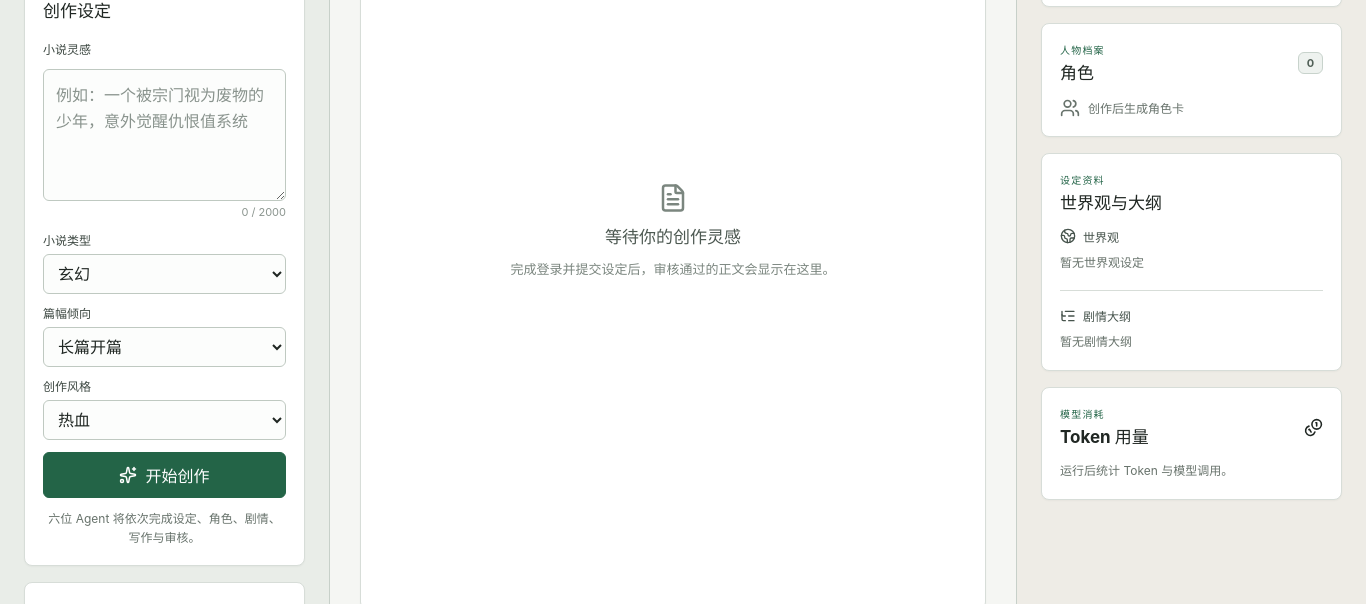
it: Freesky 创作工作台 › 登录用户可生成并查看正文、日志、角色、世界观、大纲和 token 用量
Type "废物少年觉醒仇恨值系统" into the text box labelled "小说灵感" at coordinates (164, 135), box [43,69,286,201]
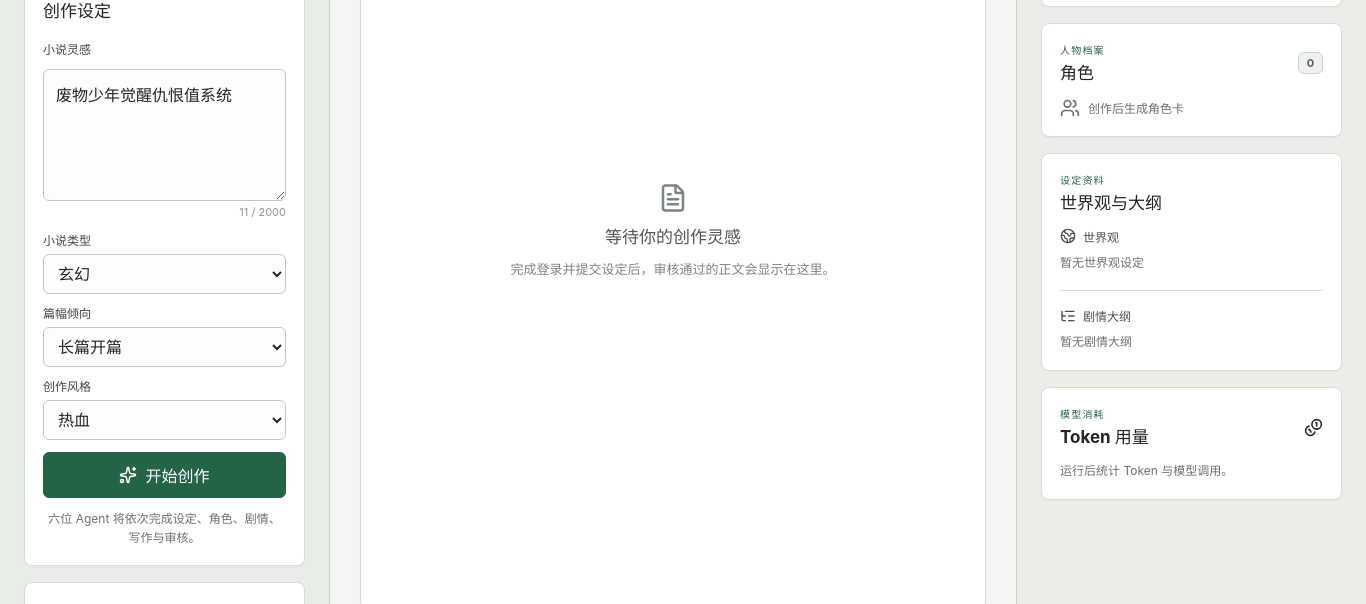
Select "玄幻" in the dropdown labelled "小说类型" at coordinates (164, 274), box [43,254,286,294]
Select "长篇开篇" in the dropdown labelled "篇幅倾向" at coordinates (164, 347), box [43,327,286,367]
Select "热血" in the dropdown labelled "创作风格" at coordinates (164, 420), box [43,400,286,440]
Click the button "开始创作" at coordinates (164, 475), box [43,452,286,498]
(page scrolled)
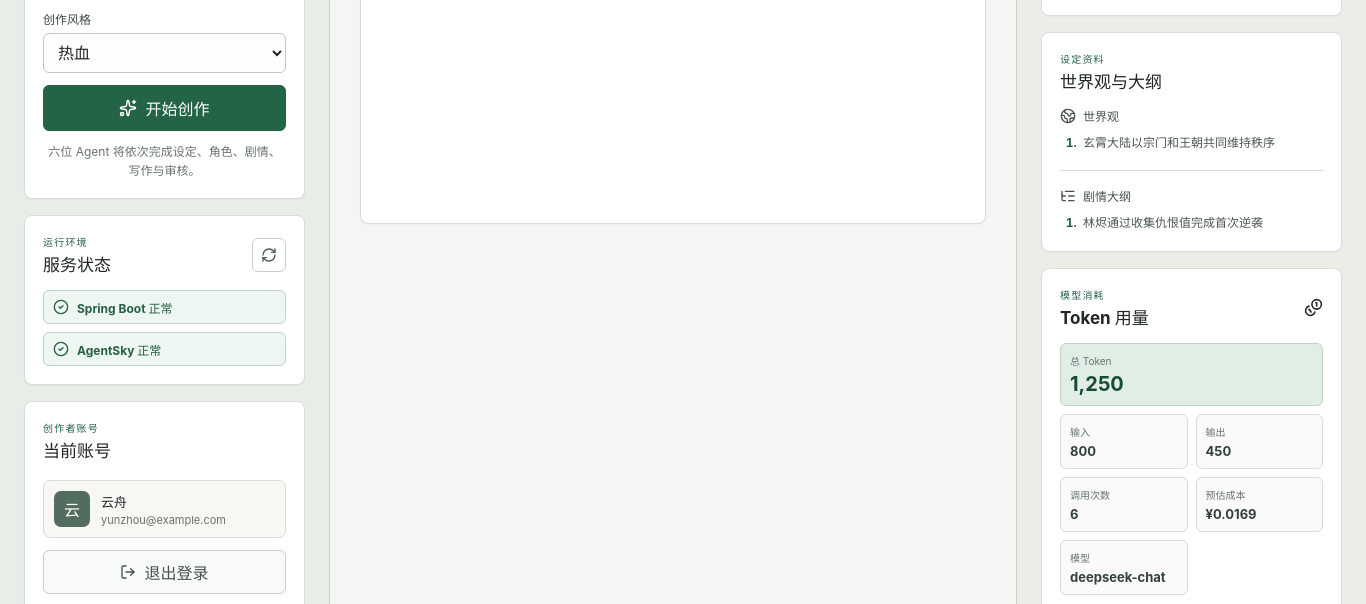
Expected: the list item "玄霄大陆以宗门和王朝共同维持秩序" is shown, [1083,135,1275,150]
Expected: the list item "林烬通过收集仇恨值完成首次逆袭" is shown, [1083,216,1263,230]
Expected: the text "1,250" is shown, [1070,372,1124,396]
